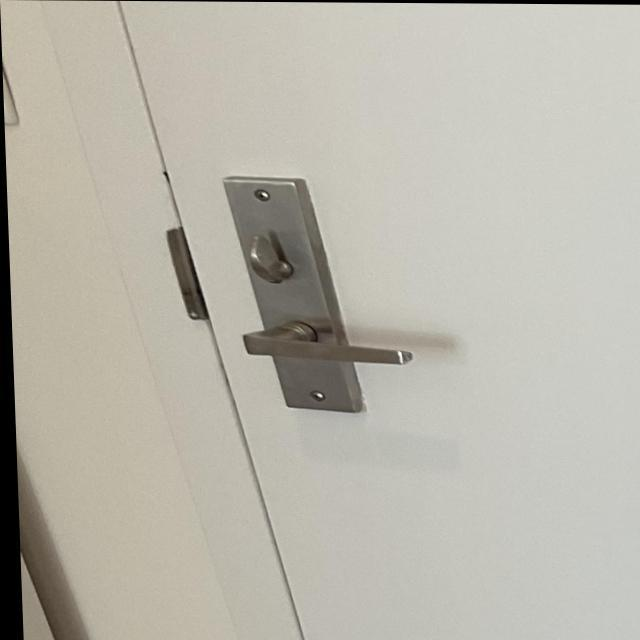door_handle: (219, 309, 425, 386)
